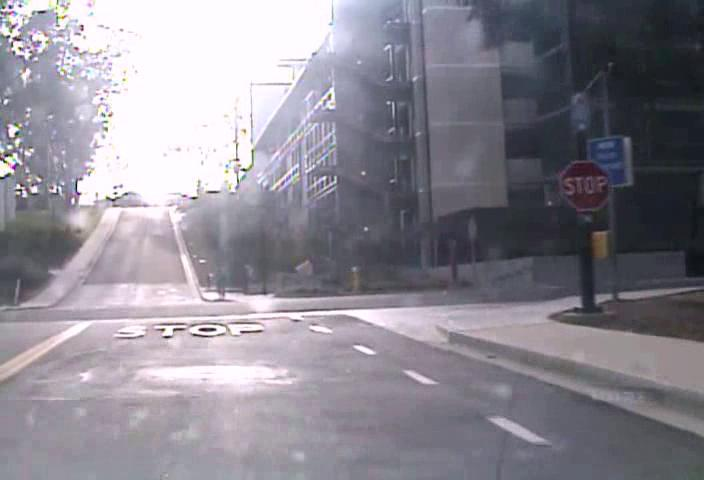stop: (558, 159, 611, 211)
